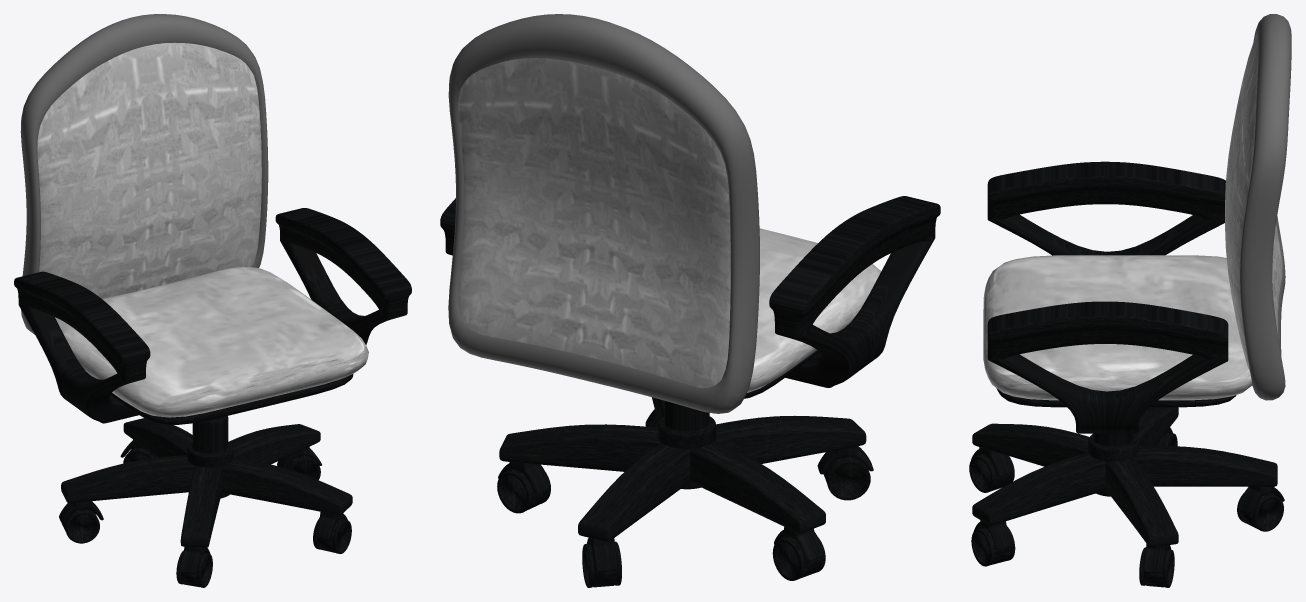
The model's file is chair.fbx.
3 renders of one model, left to right at view 1: azimuth 30°, elevation 25°; view 2: azimuth 150°, elevation 25°; view 3: azimuth 270°, elevation 25°, orthographic. The views are drawn at different scales.
Visible parts, largest first — view 1: Cube; view 2: Cube; view 3: Cube.
Boxes of the visible parts, x1=… form: Cube: x1=14, y1=14, x2=411, y2=587; Cube: x1=440, y1=14, x2=940, y2=587; Cube: x1=969, y1=14, x2=1291, y2=587.
Size of the model in its own units: 242 by 361 by 212.
